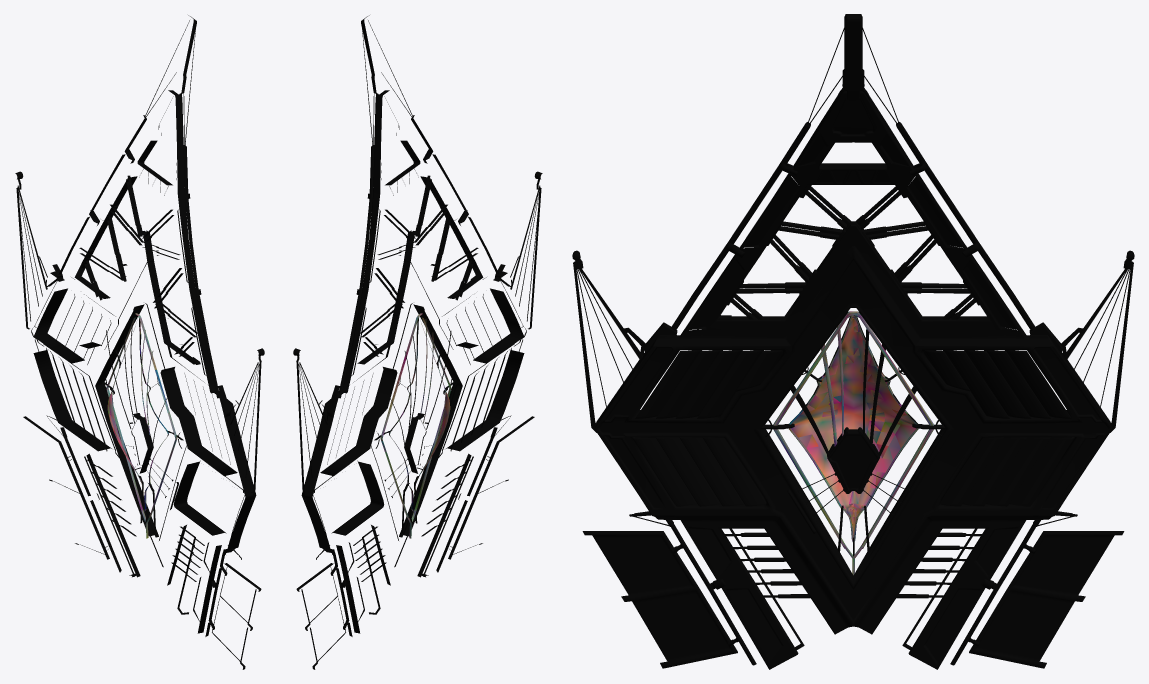
File: CS_Emblem_00.gltf
3 renders of one model, left to right at view 1: azimuth 30°, elevation 25°; view 2: azimuth 150°, elevation 25°; view 3: azimuth 270°, elevation 25°, orthographic. The views are drawn at different scales.
Parts seen in each view (by area): view 1: CS_Emblem_00; view 2: CS_Emblem_00; view 3: CS_Emblem_00.
Part boxes in pixels (x1,y1,x2,y2): CS_Emblem_00: (15, 15, 264, 669); CS_Emblem_00: (293, 15, 542, 669); CS_Emblem_00: (572, 14, 1134, 669).
Bounding box in the file's own units: 39.66 × 282 × 214.
